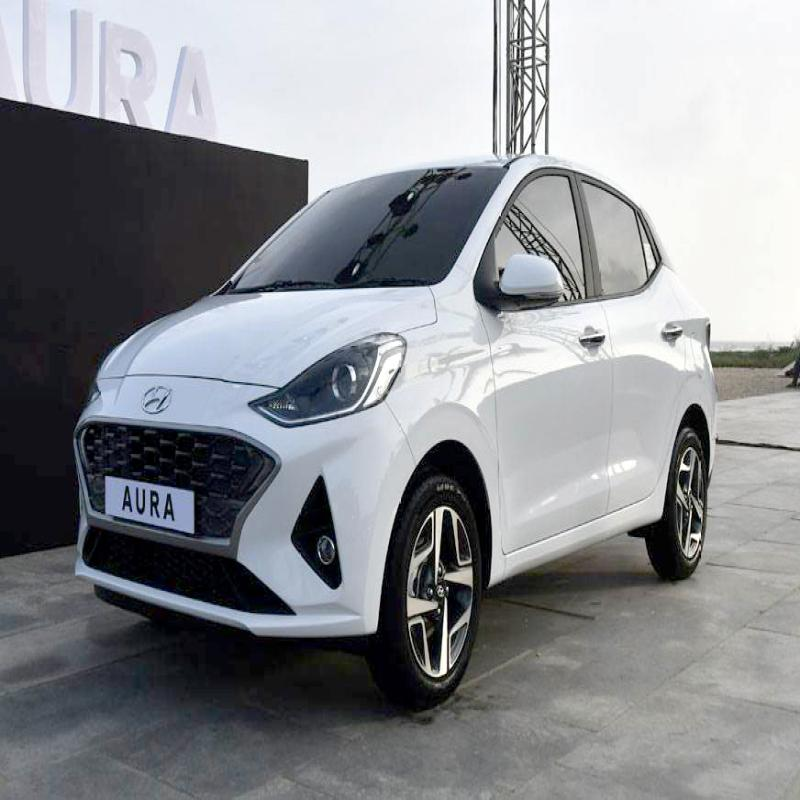car: (91, 143, 724, 682)
